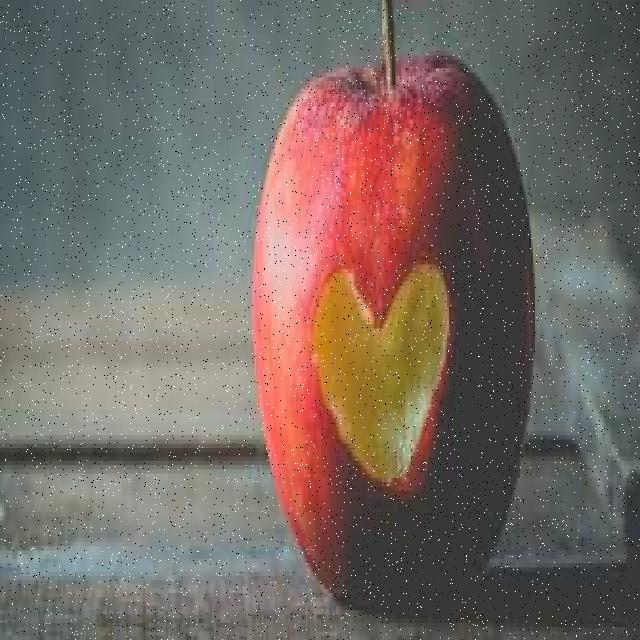Apple: (254, 65, 534, 592)
